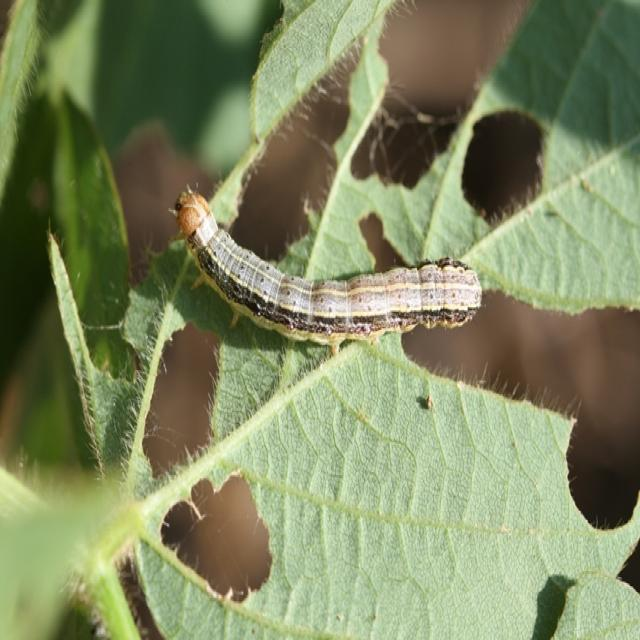Army worm: (166, 181, 485, 348), (155, 468, 276, 609), (457, 105, 549, 231)
Powdery mildew: (129, 331, 636, 636)
